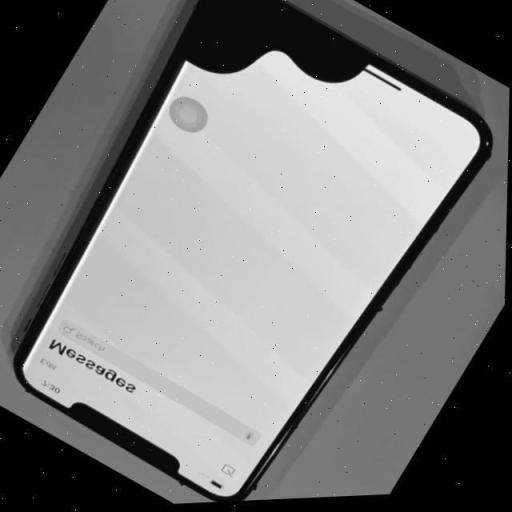phone: (12, 0, 497, 507)
